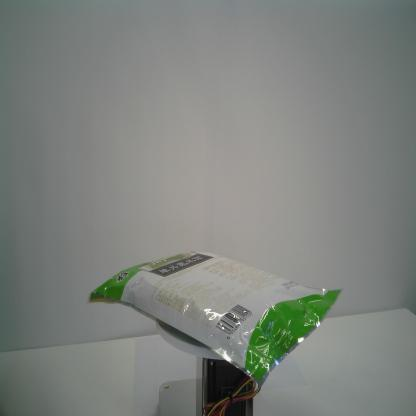Dried Food: (87, 250, 343, 387)
